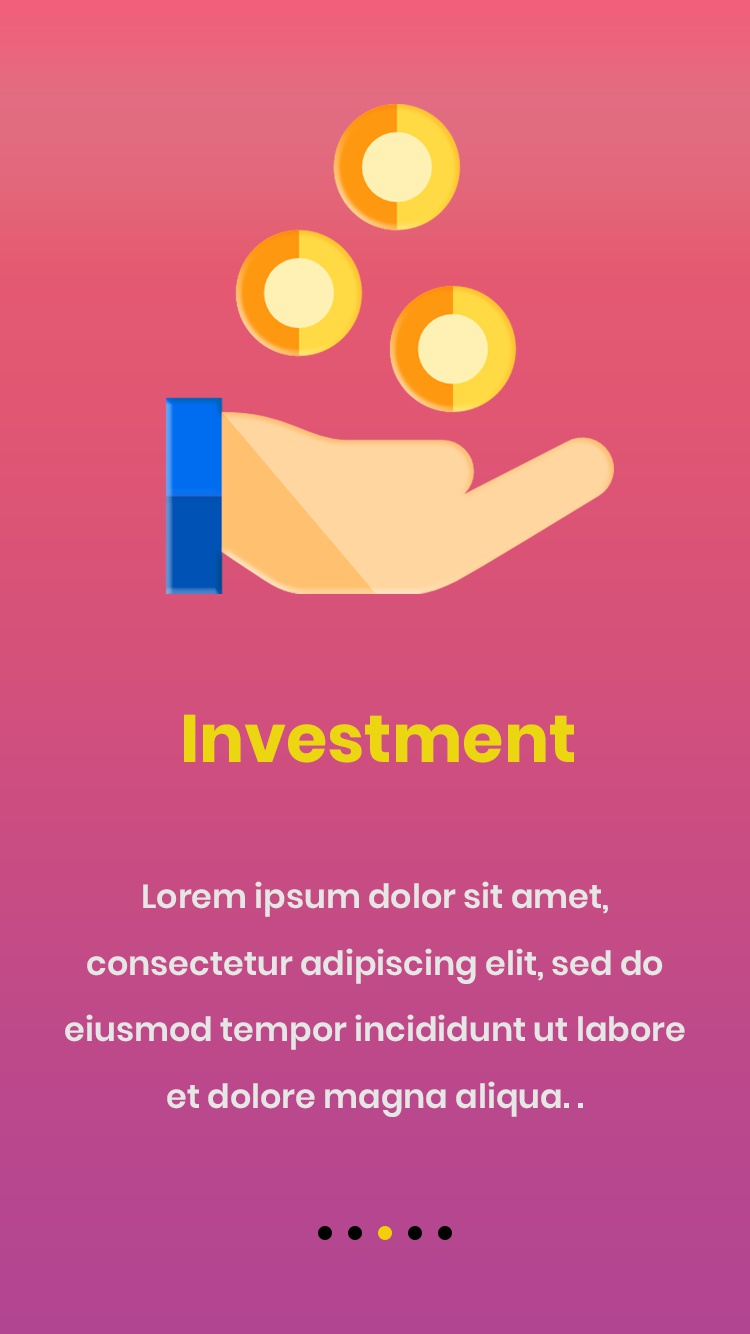Image: (165, 104, 617, 596)
PageIndicator: (316, 1223, 455, 1243)
Text: (64, 880, 687, 1119), (182, 713, 578, 765)
